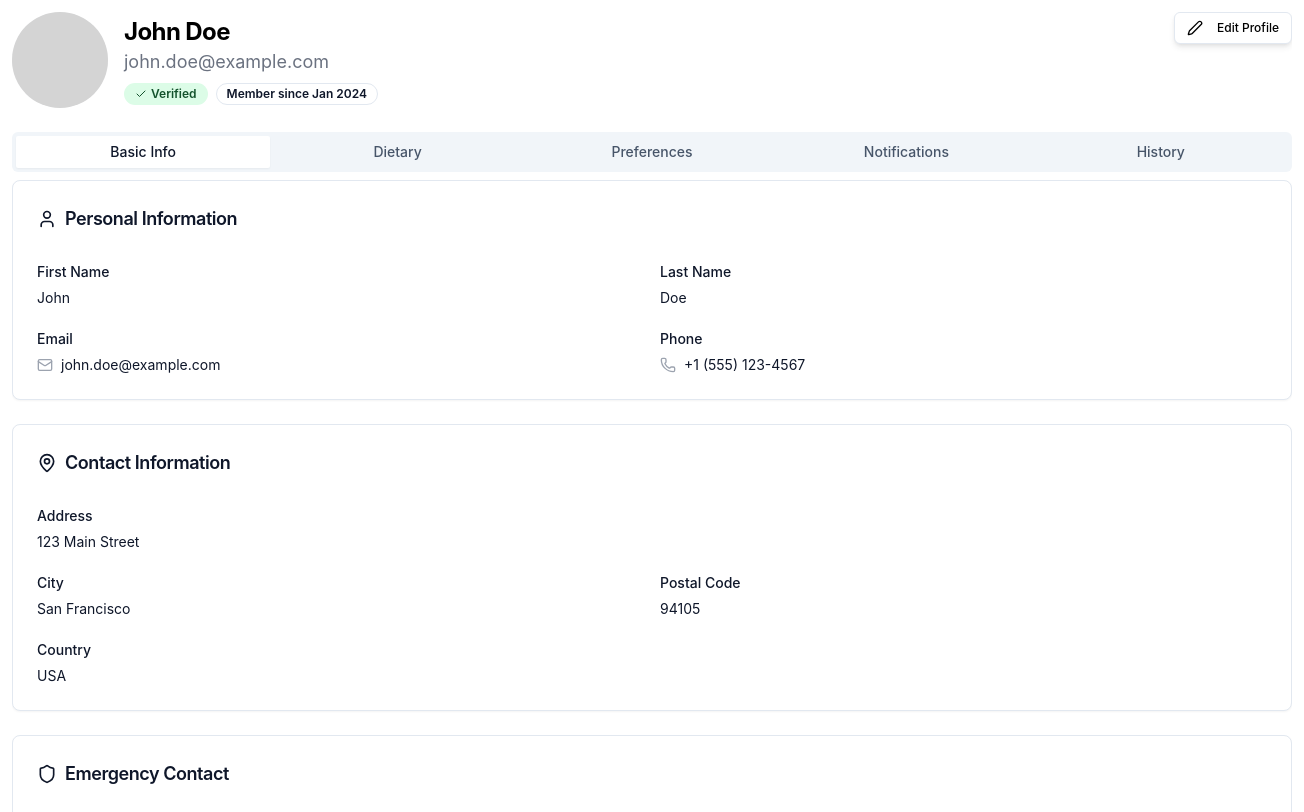
Test case: UserProfile › Edit Mode › shows saving state while saving
Click the button "Edit Profile": (1233, 28) x1=1174 y1=12 x2=1292 y2=44
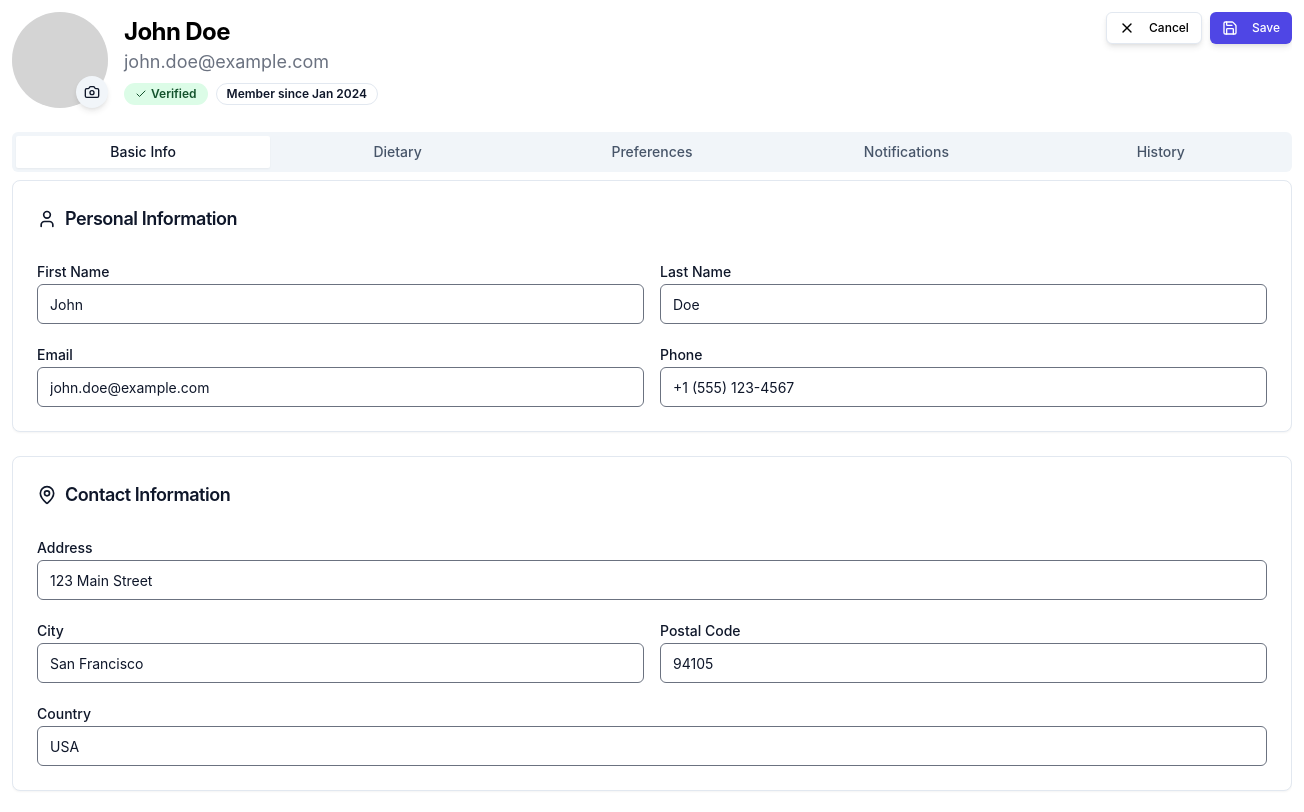
Click the button "Save": (1251, 28) x1=1210 y1=12 x2=1292 y2=44
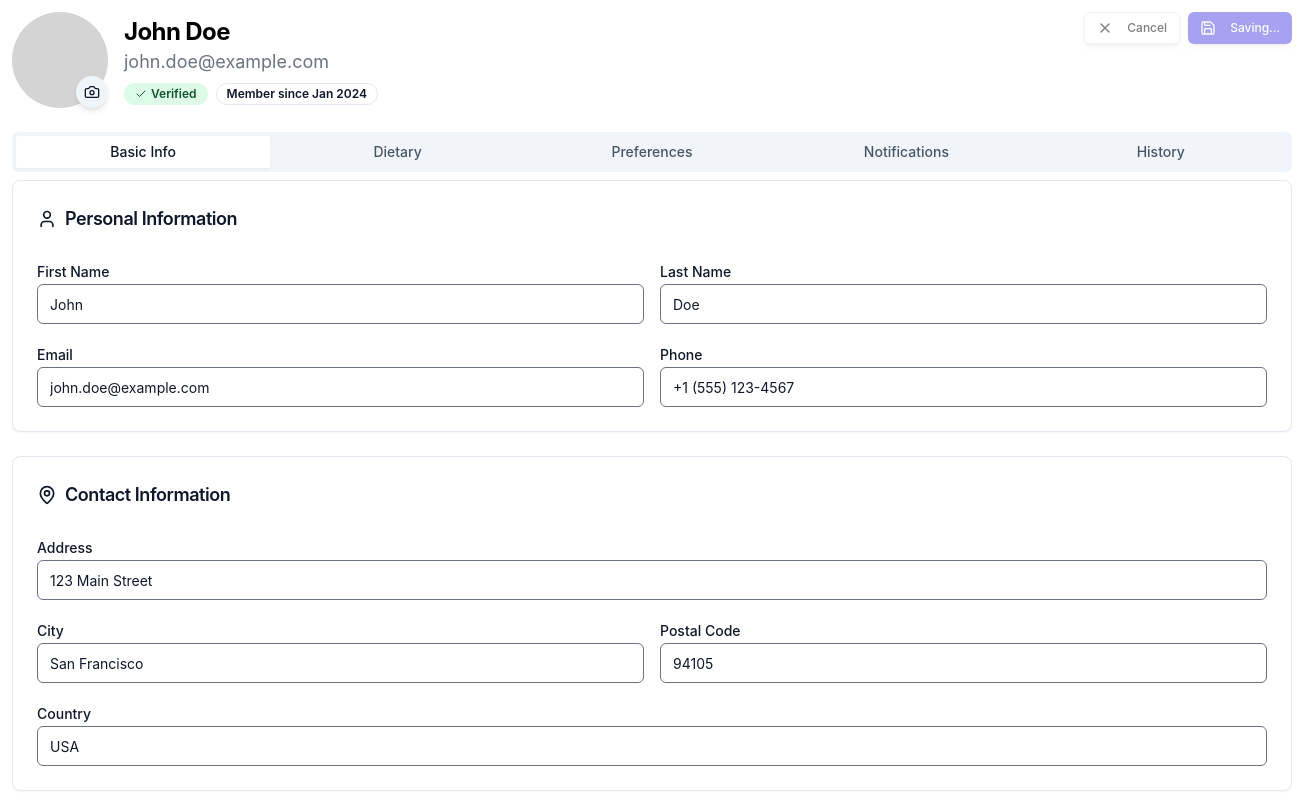
Result: the button "Saving..." is shown at x1=1188 y1=12 x2=1292 y2=44
